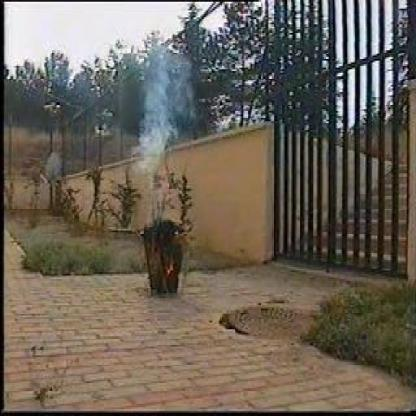-: (132, 43, 190, 166)
foggia-v2-map80-epoch100 - v1 4323: (159, 170, 185, 210)
